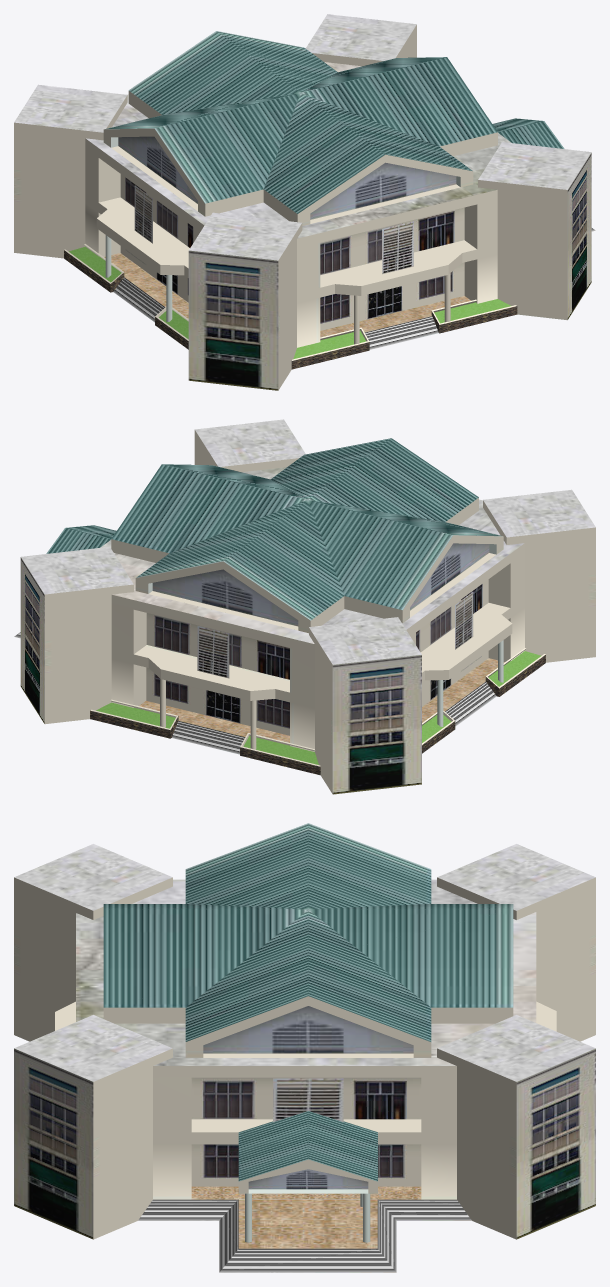
3 views of the same model, one above another, from view 1: azimuth 30°, elevation 25°; view 2: azimuth 150°, elevation 25°; view 3: azimuth 270°, elevation 25° (orthographic). The views are drawn at different scales.
Visible parts, largest first — view 1: 5c73a8b39b2f734bcccde529.001; view 2: 5c73a8b39b2f734bcccde529.001; view 3: 5c73a8b39b2f734bcccde529.001.
Boxes of the visible parts, left/top/right/bottom form: 5c73a8b39b2f734bcccde529.001: left=14, top=14, right=595, bottom=390; 5c73a8b39b2f734bcccde529.001: left=14, top=419, right=595, bottom=794; 5c73a8b39b2f734bcccde529.001: left=14, top=823, right=595, bottom=1272.
Size of the model in its own units: 31.36 by 11.35 by 28.43.
1 material, 1 textured.
